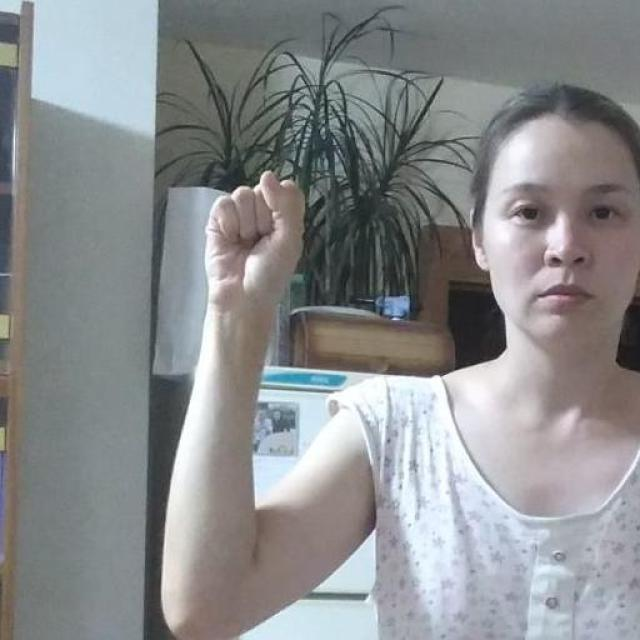hand: (203, 169, 305, 310)
